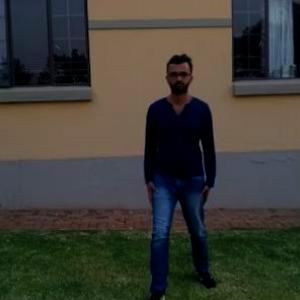follow: (142, 56, 211, 289)
